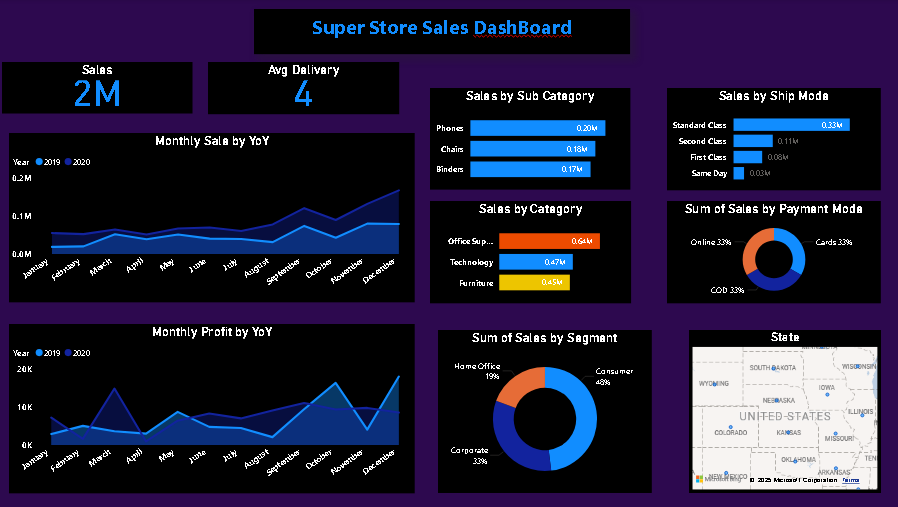

The dashboard page shown, as its layout file describes it:
{"tool":"powerbi","page":{"name":"Page 1","canvas":[1280,720],"ordinal":0},"visuals":[{"type":"clusteredBarChart","title":"Sales by Category","fields":{"Category":["Sheet1 (2).Category"],"Y":["Sum(Sheet1 (2).Sales)"]},"box":[609.7,286.8,314.7,173.7],"z":0},{"type":"clusteredBarChart","title":"Sales by Sub Category","fields":{"Category":["Sheet1 (2).Sub-Category"],"Y":["Sum(Sheet1 (2).Sales)"]},"box":[609.7,126.2,283.5,144.2],"z":1000},{"type":"clusteredBarChart","title":"Sales by Ship Mode","fields":{"Category":["Sheet1 (2).Ship Mode"],"Y":["Sum(Sheet1 (2).Sales)"]},"box":[940.7,60.6,296.6,236],"z":2000},{"type":"areaChart","title":"Monthly Sale by YoY","fields":{"Y":["Sum(Sheet1 (2).Sales)"],"Category":["Sheet1 (2).Order Date.Variation.Date Hierarchy.Month","Sheet1 (2).Order Date.Variation.Date Hierarchy.Day"],"Series":["Sheet1 (2).Order Date.Variation.Date Hierarchy.Year"]},"box":[0,189.8,588.6,240.3],"z":3000},{"type":"areaChart","title":"Monthly Profit by YoY","fields":{"Category":["Sheet1 (2).Order Date.Variation.Date Hierarchy.Month","Sheet1 (2).Order Date.Variation.Date Hierarchy.Day"],"Series":["Sheet1 (2).Order Date.Variation.Date Hierarchy.Year"],"Y":["Sum(Sheet1 (2).Profit)"]},"box":[3.3,460.5,601.5,239.3],"z":4000},{"type":"donutChart","fields":{"Category":["Sheet1 (2).Segment"],"Y":["Sum(Sheet1 (2).Sales)"]},"box":[621.2,468.7,303.2,231.1],"z":5000},{"type":"slicer","fields":{"Values":["Sheet1 (2).Region"]},"box":[940.7,493.3,308.1,193.4],"z":6000},{"type":"textbox","box":[179.4,13.9,714,64.4],"z":7000},{"type":"card","title":"Sales","fields":{"Values":["Sum(Sheet1 (2).Sales)"]},"box":[3.5,88.8,269.9,73.1],"z":8000},{"type":"card","title":"Avg Delivery","fields":{"Values":["Avg(Sheet1.AvgDelivery)"]},"box":[294.3,83.6,271.7,83.6],"z":9000},{"type":"donutChart","fields":{"Category":["Sheet1.Payment Mode"],"Y":["Sum(Sheet1 (2).Sales)"]},"box":[945.7,309.8,303.2,172.1],"z":10000}]}

Visuals, with their boxes in screenshot pixels (x1, y1, x2, y2), scaled from the page's 1280x720 canvas onto the 898x507 screenshot:
"Sales by Category" clusteredBarChart: l=428, t=202, r=649, b=324
"Sales by Sub Category" clusteredBarChart: l=428, t=89, r=627, b=190
"Sales by Ship Mode" clusteredBarChart: l=660, t=43, r=868, b=209
"Monthly Sale by YoY" areaChart: l=0, t=134, r=413, b=303
"Monthly Profit by YoY" areaChart: l=2, t=324, r=424, b=493
donutChart - Sheet1 (2).Segment x Sum(Sheet1 (2).Sales): l=436, t=330, r=649, b=493
slicer - Sheet1 (2).Region: l=660, t=347, r=876, b=484
textbox: l=126, t=10, r=627, b=55
"Sales" card: l=2, t=63, r=192, b=114
"Avg Delivery" card: l=206, t=59, r=397, b=118
donutChart - Sheet1.Payment Mode x Sum(Sheet1 (2).Sales): l=663, t=218, r=876, b=339
